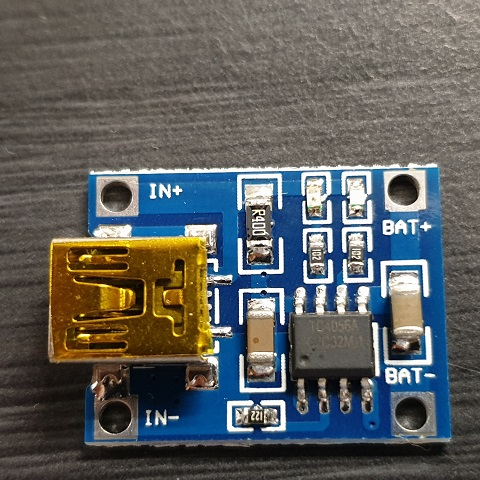batt+: (381, 167, 420, 210)
batt-: (392, 396, 436, 438)
charge: (302, 170, 328, 224)
done: (333, 172, 368, 222)
rprog: (226, 404, 282, 428)
usb: (48, 238, 216, 362)
